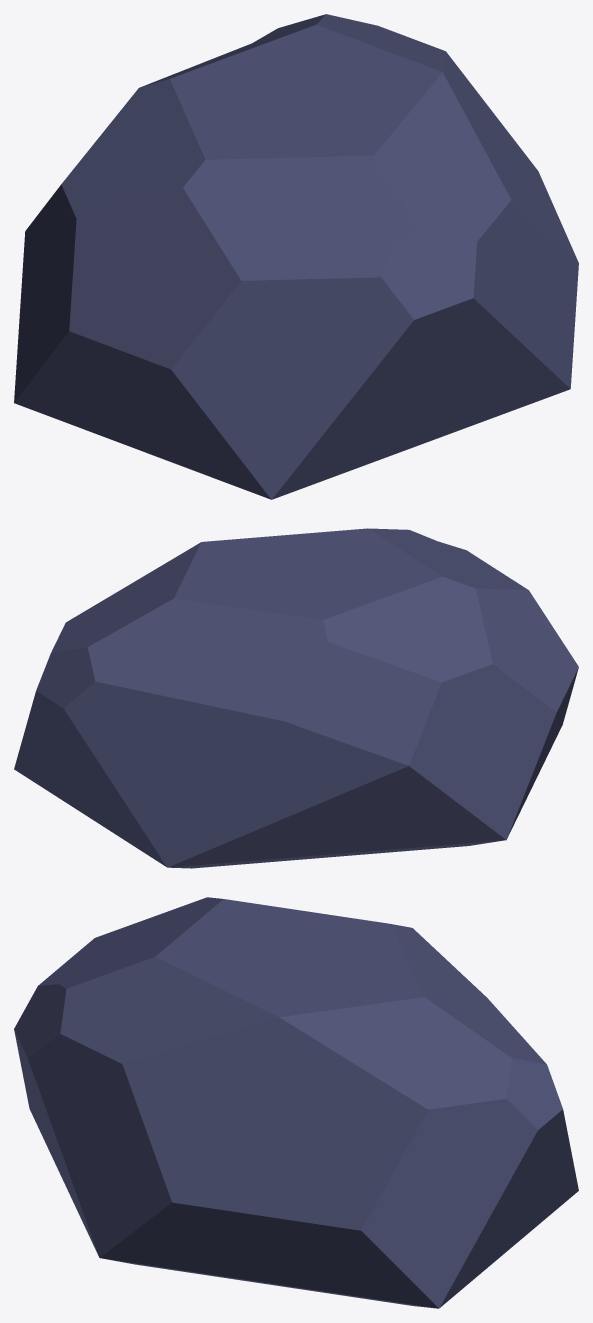
The model's file is rock 1.fbx.
3 renders of one model, top to bottom at view 1: azimuth 30°, elevation 25°; view 2: azimuth 150°, elevation 25°; view 3: azimuth 270°, elevation 25°, orthographic. The views are drawn at different scales.
Parts seen in each view (by area): view 1: Icosphere; view 2: Icosphere; view 3: Icosphere.
Part boxes in pixels (box(x1,y1,x2,y2)): Icosphere: box(14, 14, 578, 499); Icosphere: box(14, 528, 578, 868); Icosphere: box(14, 897, 578, 1308).
Size of the model in its own units: 194 by 91.87 by 190.
